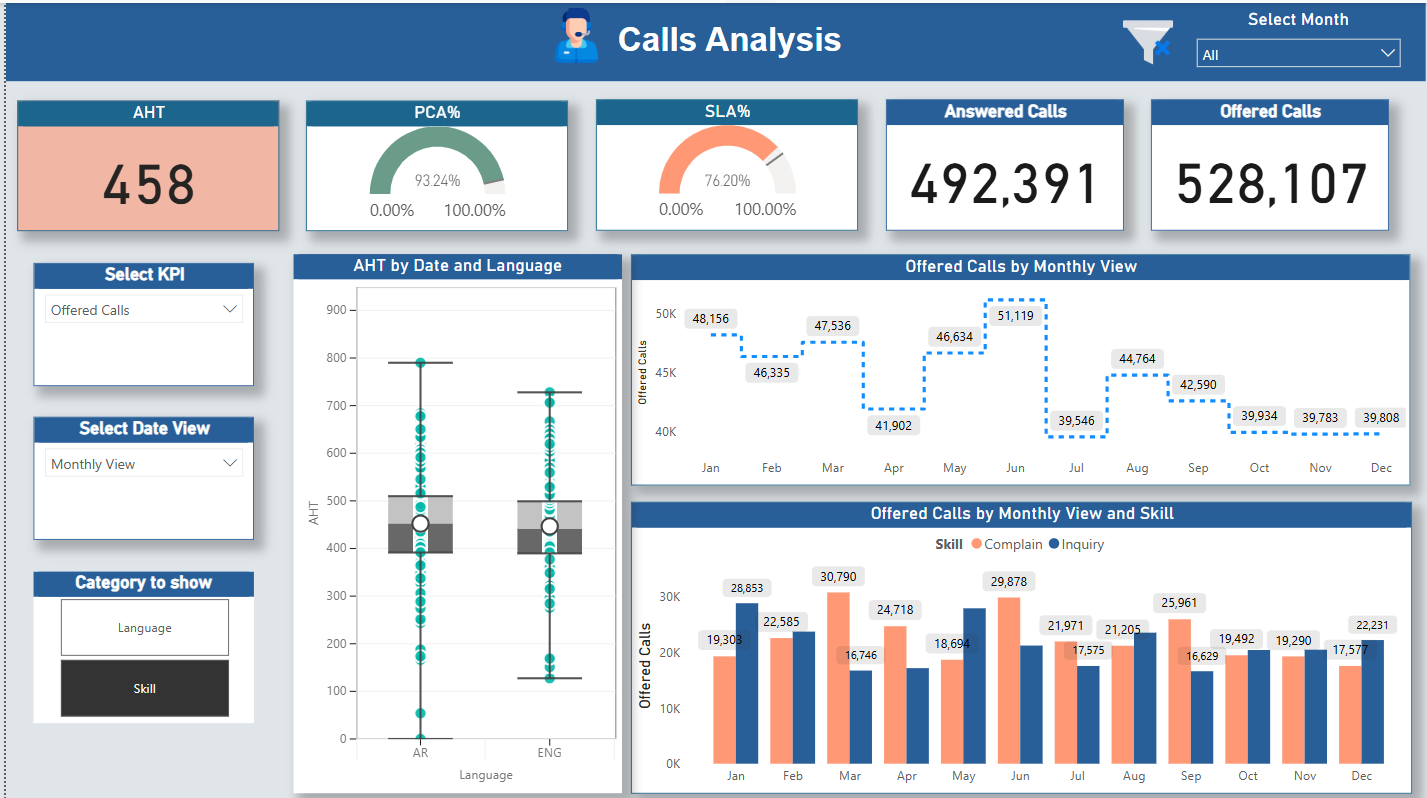

What the dashboard file says about the page in this screenshot:
{"tool":"powerbi","page":{"name":"Calls Analysis","canvas":[1366,768],"ordinal":0},"visuals":[{"type":"shape","box":[0,0,1365.5,75.3],"z":0},{"type":"textbox","box":[516.1,4.6,361,70.7],"z":1000},{"type":"card","title":"AHT","fields":{"Values":["Measures_Table.AHT"]},"box":[10.8,93.4,251.9,126],"z":2000},{"type":"image","box":[496.1,0,104.4,63],"z":3000},{"type":"clusteredColumnChart","fields":{"Category":["Dim_Date.Month"],"Y":["Measures_Table.Offered Calls"],"Series":["Calls Data.Skill"]},"box":[600.6,479.2,751.1,281.1],"z":4000},{"type":"card","title":"Offered Calls","fields":{"Values":["Measures_Table.Offered Calls"]},"box":[1101,93,228.8,126.7],"z":5000},{"type":"slicer","title":"Select KPI","fields":{"Values":["KPIS Parameters.KPIS Parameters"]},"box":[26.1,249.6,212.3,118.5],"z":6000},{"type":"slicer","title":"Category  to show","fields":{"Values":["Category to show.Category to show"]},"box":[26.3,546.8,212,145.9],"z":7000},{"type":"slicer","title":"Select Date View","fields":{"Values":["Parameter_Date.Parameter_Date"]},"box":[26.1,398.5,212.3,118],"z":8000},{"type":"lineChart","fields":{"Category":["Dim_Date.Month"],"Y":["Measures_Table.Offered Calls"]},"box":[600.6,241.2,749.6,222.7],"z":9000},{"type":"BoxandWhiskerByMAQ1823AD39DT234AB532063E128AX","fields":{"measure":["Measures_Table.AHT"],"categoryGroup":["Calls Data.Language"],"category":["Calls Data.Date"]},"box":[276.5,241.9,316,518.4],"z":10000},{"type":"gauge","title":"SLA%","fields":{"Y":["Measures_Table.SLA"],"TargetValue":["Target_Table.SLA Target%"]},"box":[567.5,93,251.8,126.7],"z":11000},{"type":"gauge","title":"PCA%","fields":{"Y":["Measures_Table.PCA%"],"TargetValue":["Target_Table.PCA Target%"]},"box":[289.1,93.4,251.9,126],"z":12000},{"type":"card","title":"Answered Calls","fields":{"Values":["Measures_Table.Answered Calls"]},"box":[845.8,93,228.8,126.7],"z":13000},{"type":"slicer","title":"Select Month","fields":{"Values":["Dim_Date.Month"]},"box":[1135.1,4.6,216.6,63],"z":14000},{"type":"image","box":[1061.4,0,73.7,73.7],"z":15000}]}

Visuals, with their boxes in screenshot pixels (x1, y1, x2, y2), scaled from the page's 1366x768 canvas onto the 1427x798 screenshot:
shape: [0,0,1426,78]
textbox: [539,5,916,78]
"AHT" card: [11,97,274,228]
image: [518,0,627,65]
clusteredColumnChart - Dim_Date.Month x Measures_Table.Offered Calls: [627,498,1412,790]
"Offered Calls" card: [1150,97,1389,228]
"Select KPI" slicer: [27,259,249,382]
"Category  to show" slicer: [27,568,249,720]
"Select Date View" slicer: [27,414,249,537]
lineChart - Dim_Date.Month x Measures_Table.Offered Calls: [627,251,1410,482]
BoxandWhiskerByMAQ1823AD39DT234AB532063E128AX - Measures_Table.AHT x Calls Data.Language: [289,251,619,790]
"SLA%" gauge: [593,97,856,228]
"PCA%" gauge: [302,97,565,228]
"Answered Calls" card: [884,97,1123,228]
"Select Month" slicer: [1186,5,1412,70]
image: [1109,0,1186,77]
